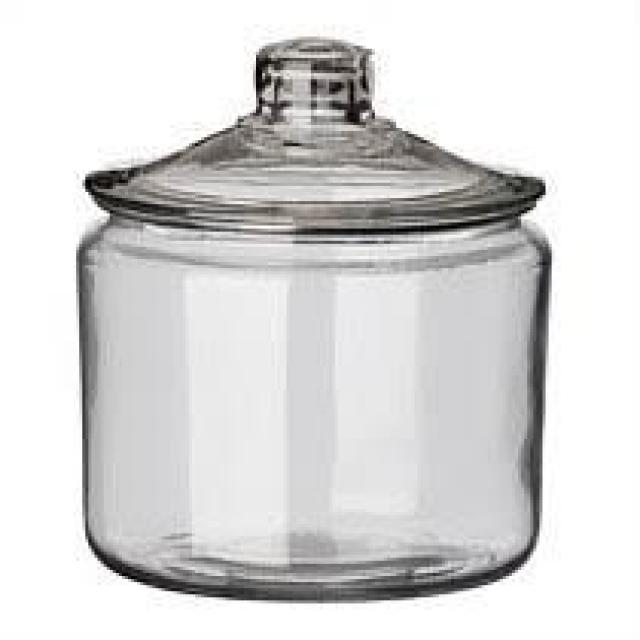non-organic waste: (72, 34, 559, 604)
